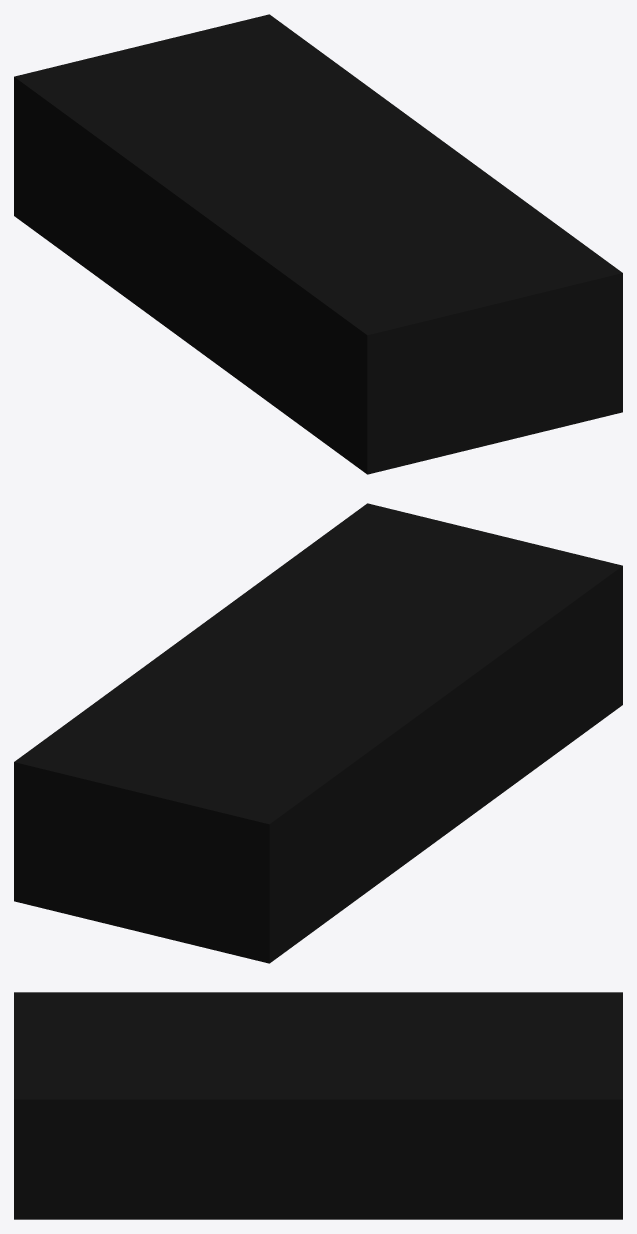
The model's file is RecoilPad_Rubber.fbx.
3 views of the same model, one above another, from view 1: azimuth 30°, elevation 25°; view 2: azimuth 150°, elevation 25°; view 3: azimuth 270°, elevation 25° (orthographic). The views are drawn at different scales.
Visible parts, largest first — view 1: prims; view 2: prims; view 3: prims.
Part boxes in pixels (box(x1,y1,x2,y2)): prims: box(14, 14, 622, 474); prims: box(14, 503, 622, 963); prims: box(14, 992, 622, 1219).
Bounding box in the file's own units: 0.0288 × 0.015 × 0.069.
